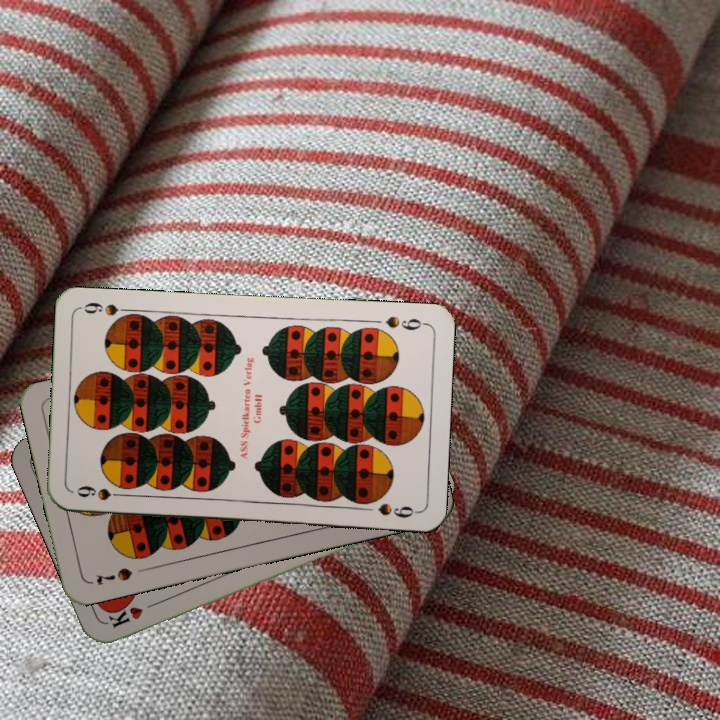HK: (104, 597, 162, 631)
S7: (92, 563, 135, 589)
S9: (72, 481, 130, 503), (381, 312, 429, 333)
